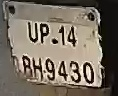0: (82, 60, 98, 86)
1: (56, 23, 66, 48)
3: (68, 60, 81, 83)
4: (56, 59, 70, 83), (66, 24, 79, 48)
9: (45, 56, 58, 83)
B: (19, 53, 33, 78)
H: (31, 56, 43, 81)
P: (38, 20, 48, 46)
U: (25, 20, 40, 44)
